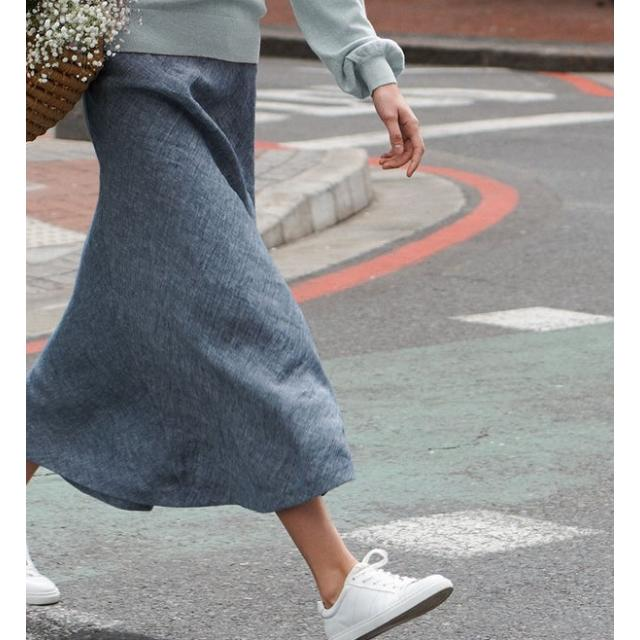linen: (84, 51, 260, 496)
